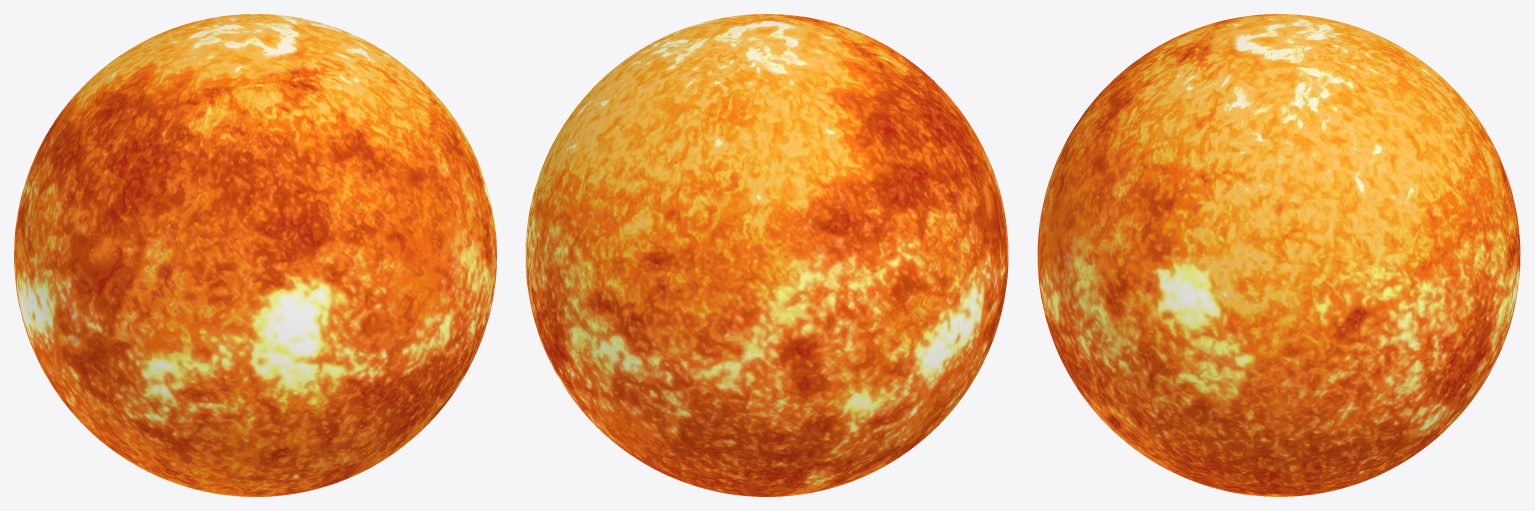
The model's file is sun.glb.
3 renders of one model, left to right at view 1: azimuth 30°, elevation 25°; view 2: azimuth 150°, elevation 25°; view 3: azimuth 270°, elevation 25°, orthographic.
Visible parts, largest first — view 1: pSphere1.1; view 2: pSphere1.1; view 3: pSphere1.1.
Boxes of the visible parts, <box> form: pSphere1.1: <box>14,14,496,496</box>; pSphere1.1: <box>525,14,1008,496</box>; pSphere1.1: <box>1037,14,1520,496</box>.
Size of the model in its own units: 0.2 by 0.2 by 0.2.
1 material, 1 textured.
